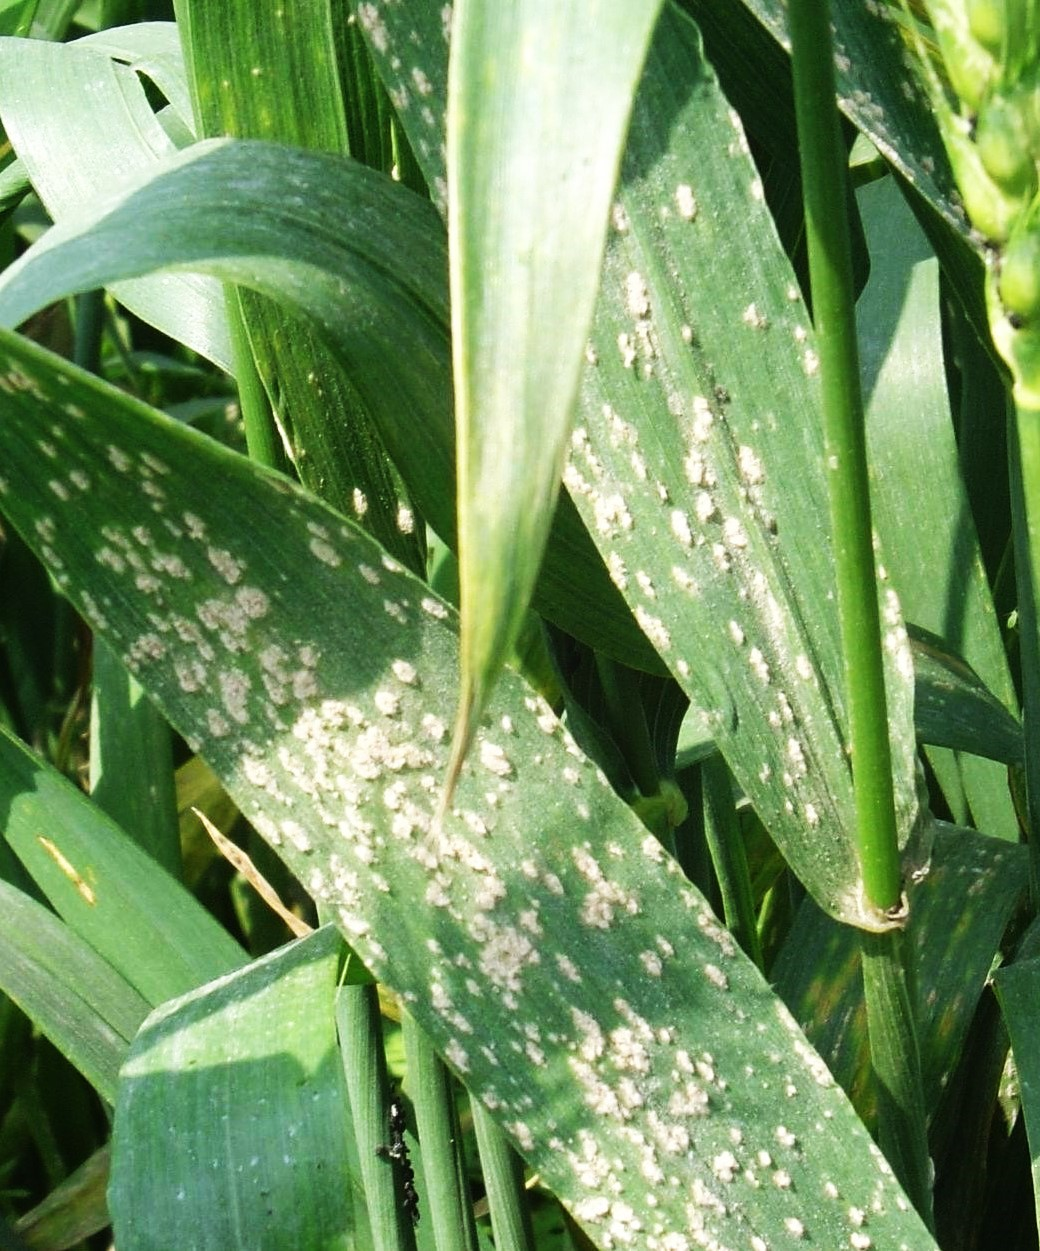Powdery Mildew: (175, 576, 913, 1241)
